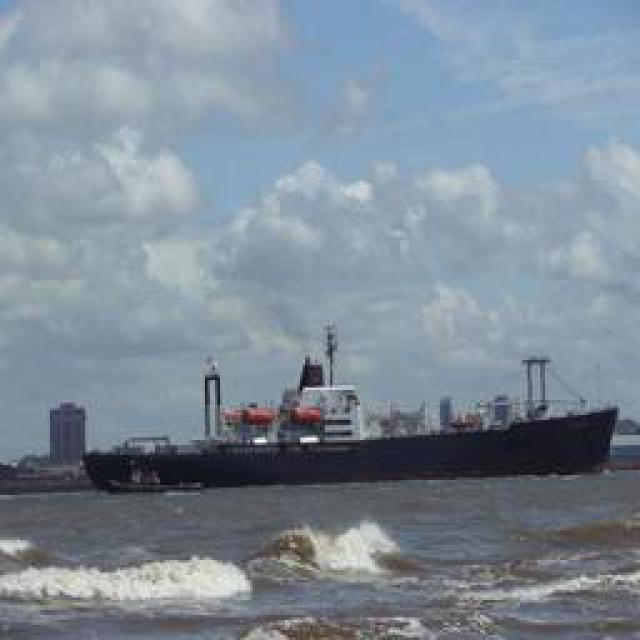Ship: (86, 347, 626, 495)
